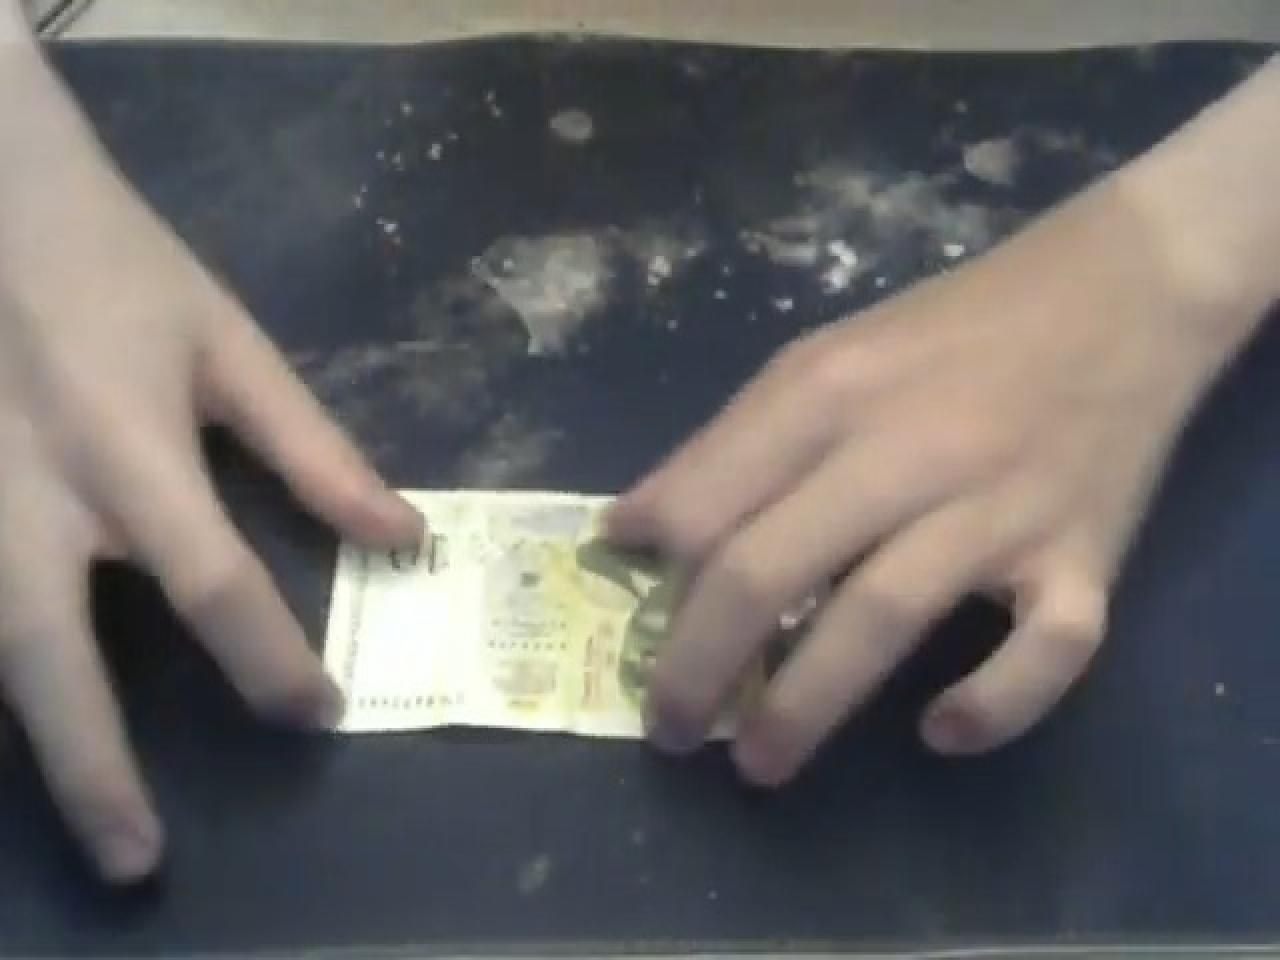10leva: (322, 491, 648, 739)
